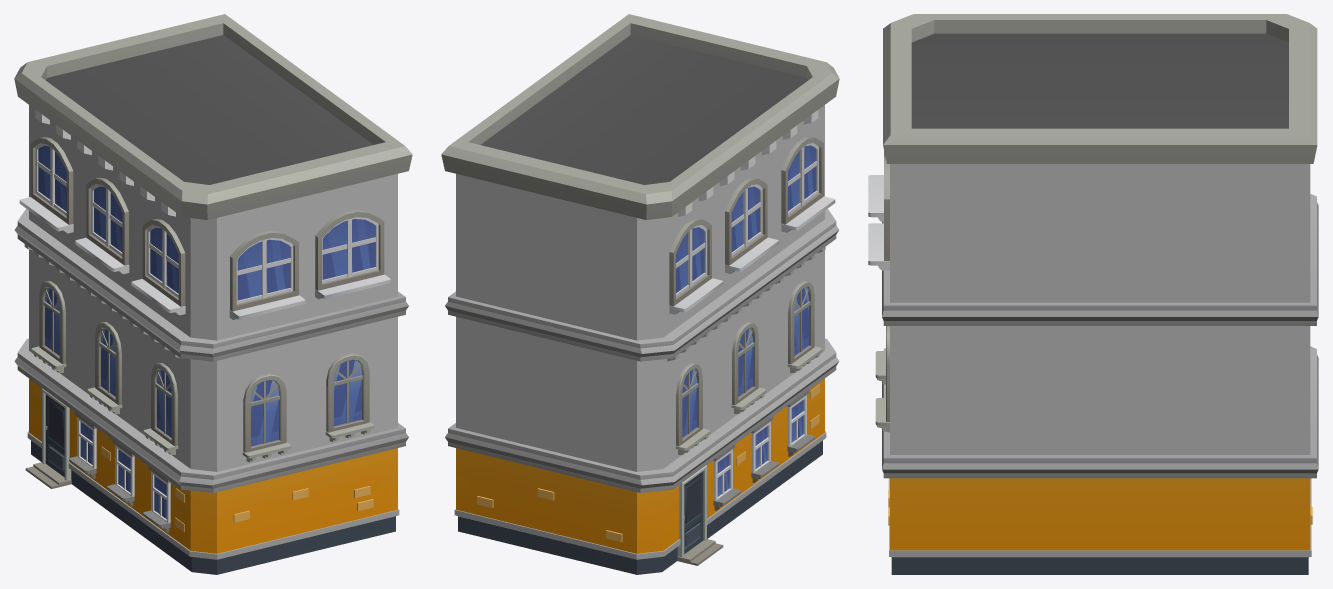
File: Building_18_3_R.fbx
3 renders of one model, left to right at view 1: azimuth 30°, elevation 25°; view 2: azimuth 150°, elevation 25°; view 3: azimuth 270°, elevation 25°, orthographic. The views are drawn at different scales.
Parts seen in each view (by area): view 1: Building_18_3_R; view 2: Building_18_3_R; view 3: Building_18_3_R.
Part boxes in pixels (x1,y1,x2,y2): Building_18_3_R: [14, 14, 412, 574]; Building_18_3_R: [441, 14, 839, 574]; Building_18_3_R: [868, 14, 1318, 574].
Size of the model in its own units: 719 by 1156 by 1059.
